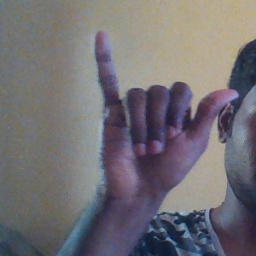J: (85, 25, 240, 198)
